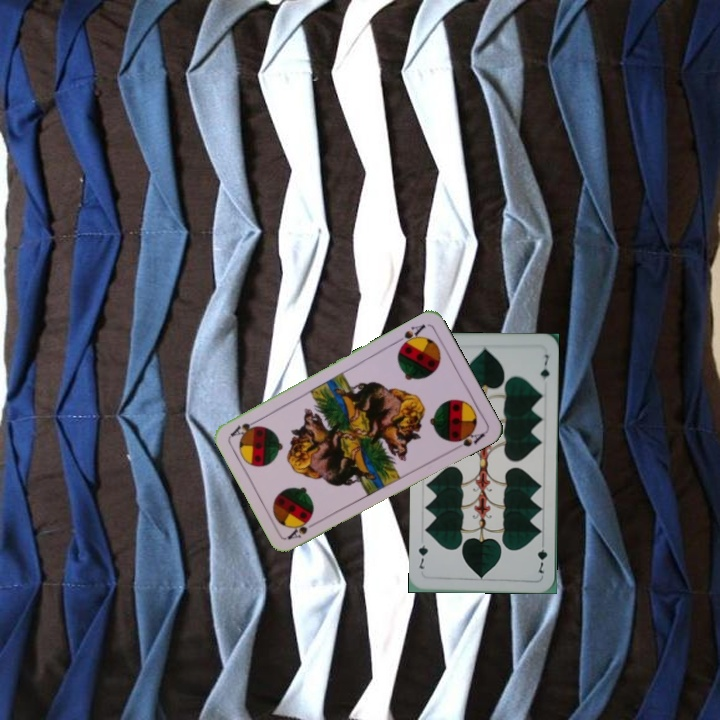G7: (533, 537, 550, 576)
SA: (392, 320, 428, 351), (284, 516, 322, 542)
